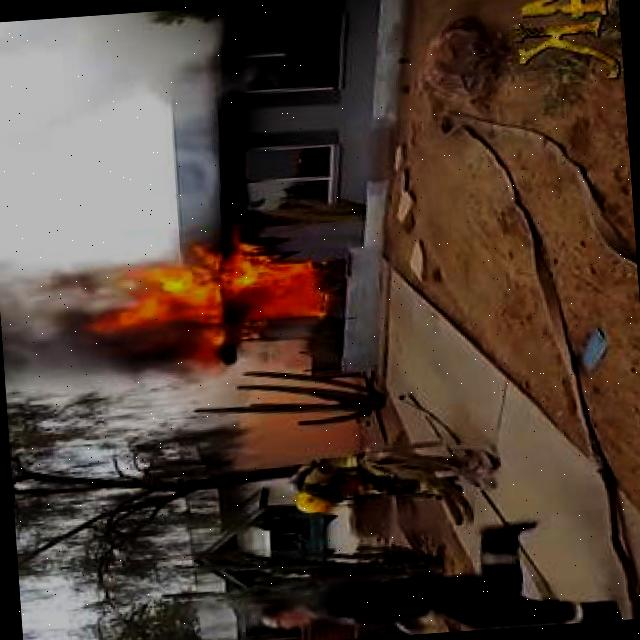fire: (123, 244, 305, 328)
